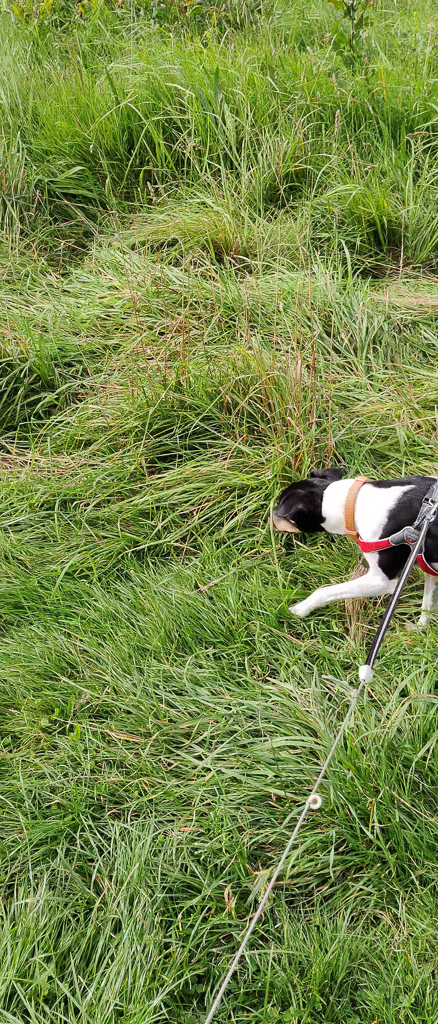Dog: (248, 451, 438, 647)
